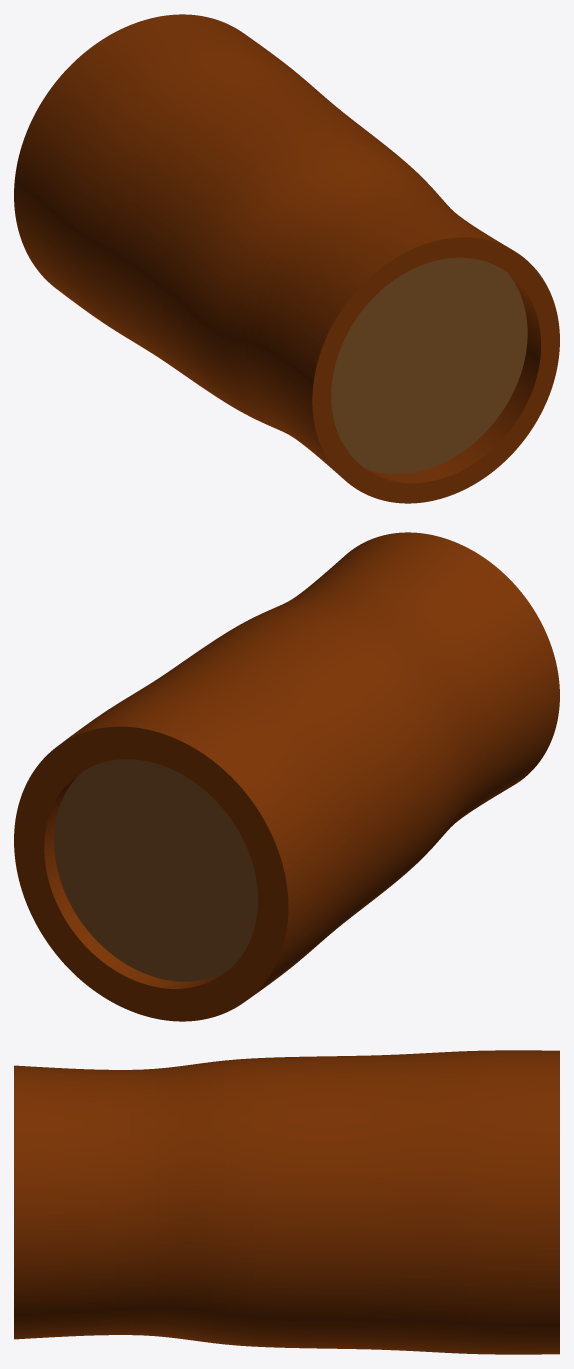
The model's file is Log.fbx.
3 renders of one model, top to bottom at view 1: azimuth 30°, elevation 25°; view 2: azimuth 150°, elevation 25°; view 3: azimuth 270°, elevation 25°, orthographic. The views are drawn at different scales.
Parts seen in each view (by area): view 1: Log; view 2: Log; view 3: Log.
Boxes of the visible parts, <box> form: Log: <box>14,14,559,503</box>; Log: <box>14,532,559,1021</box>; Log: <box>14,1050,559,1354</box>.
Size of the model in its own units: 122 by 122 by 219.
